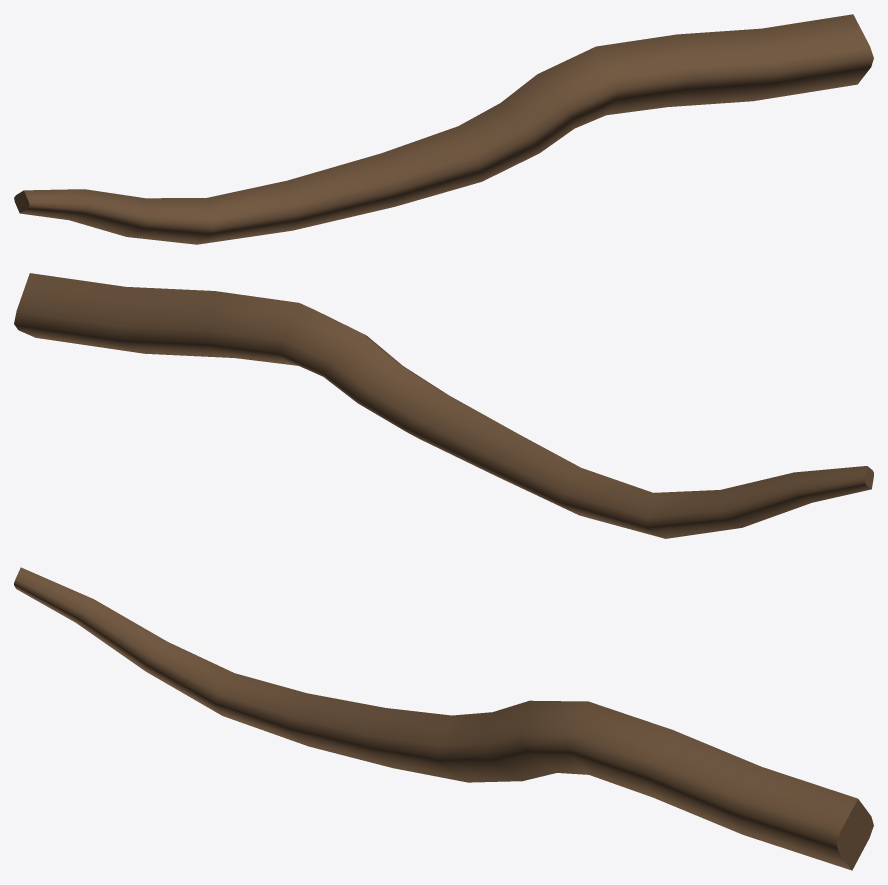
Rendered from SM_Skyisland_Root_Var8.fbx.
3 views of the same model, one above another, from view 1: azimuth 30°, elevation 25°; view 2: azimuth 150°, elevation 25°; view 3: azimuth 330°, elevation 25° (orthographic). The views are drawn at different scales.
Visible parts, largest first — view 1: BezierCurve.070; view 2: BezierCurve.070; view 3: BezierCurve.070.
Boxes of the visible parts, bbox=[...] form: BezierCurve.070: bbox=[14, 14, 873, 244]; BezierCurve.070: bbox=[14, 273, 873, 538]; BezierCurve.070: bbox=[14, 567, 873, 870].
Bounding box in the file's own units: 518 × 75.08 × 59.82.
